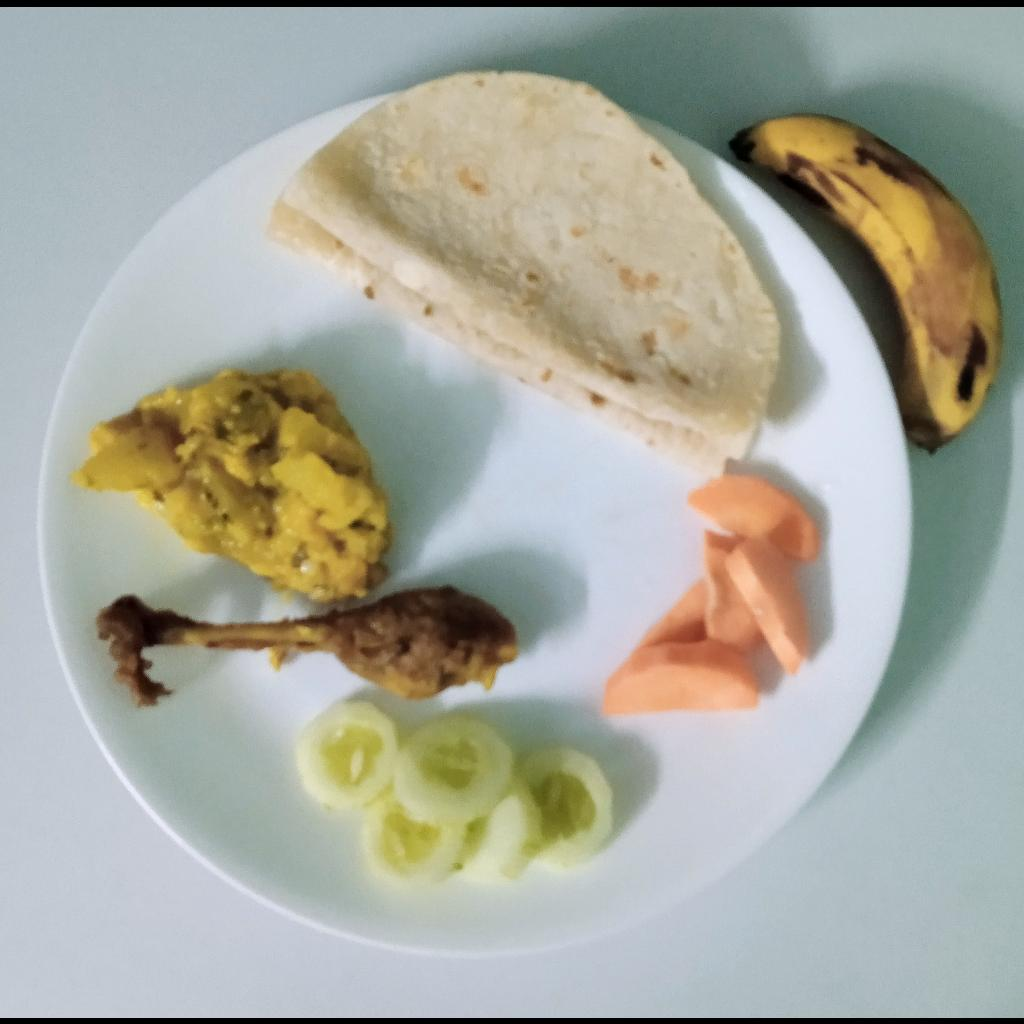banana: (728, 115, 1004, 450)
carrot: (601, 474, 821, 717)
chicken: (95, 586, 517, 706)
cucumber: (294, 703, 613, 892)
ruti: (265, 72, 783, 483)
vegetable: (71, 366, 390, 598)
